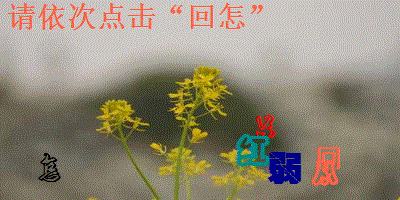result: (189, 2, 247, 31)
text: (234, 131, 269, 170), (268, 148, 303, 187), (35, 151, 63, 185), (313, 143, 344, 172), (311, 160, 340, 187), (253, 114, 278, 140)
